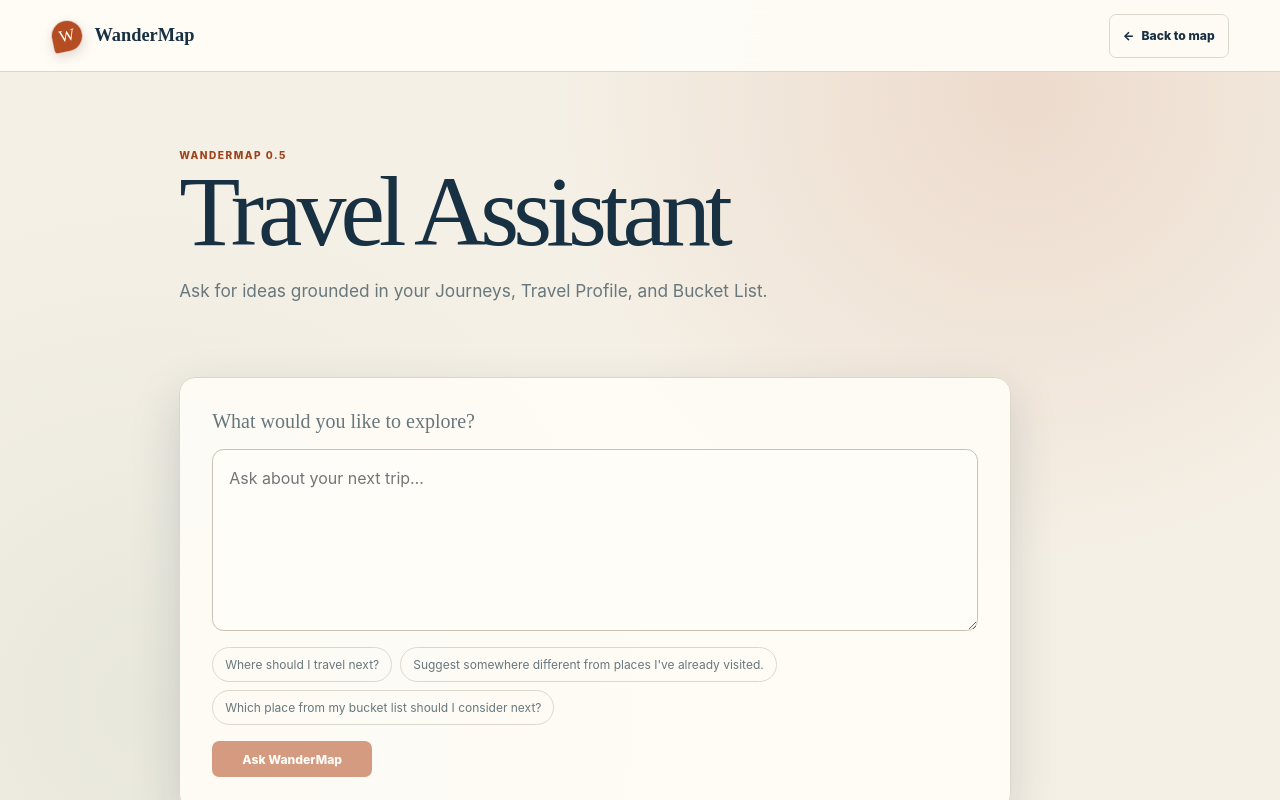
Test: TravelAssistantView › renders model output as plain text without interpreting unsafe HTML
In the text box labelled "What would you like to explore?": point(595, 540) [212,449,978,632], type "Unsafe answer"
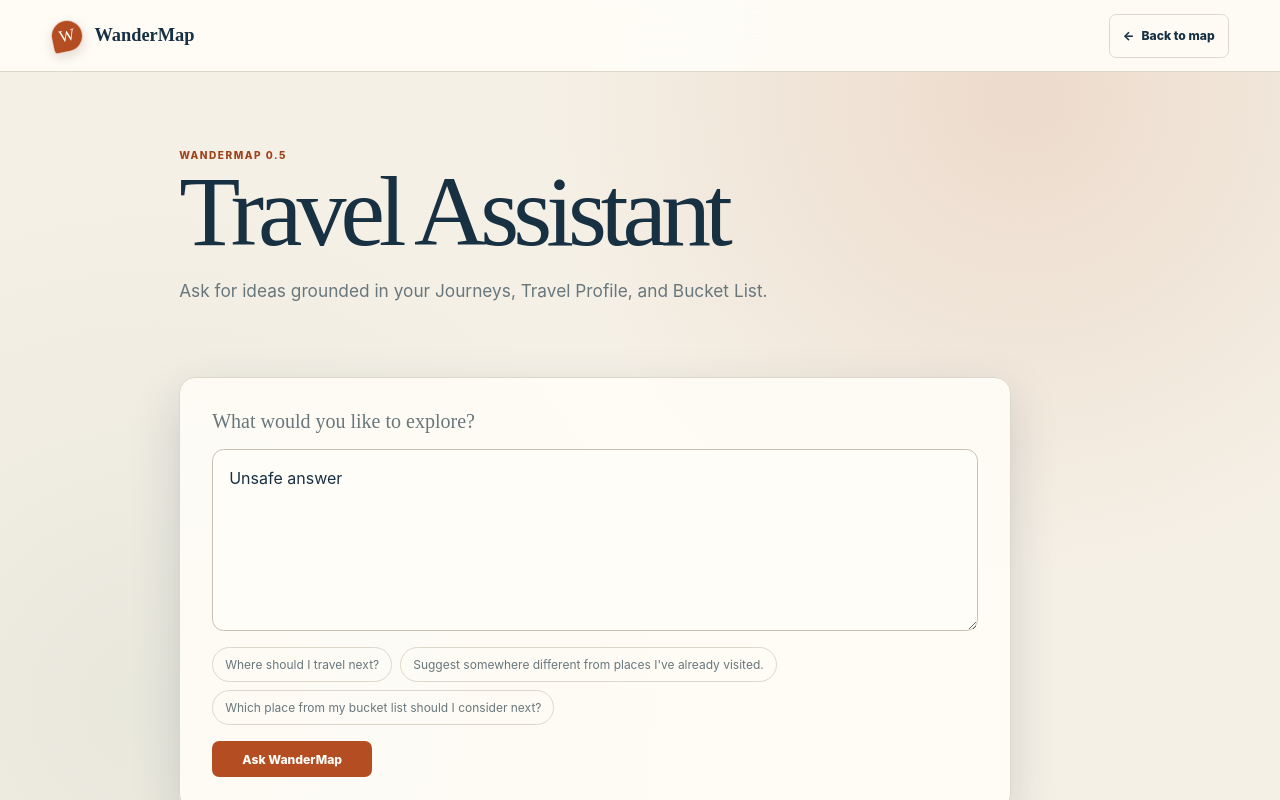
Click the button "Ask WanderMap": point(292, 759) [212,741,372,778]
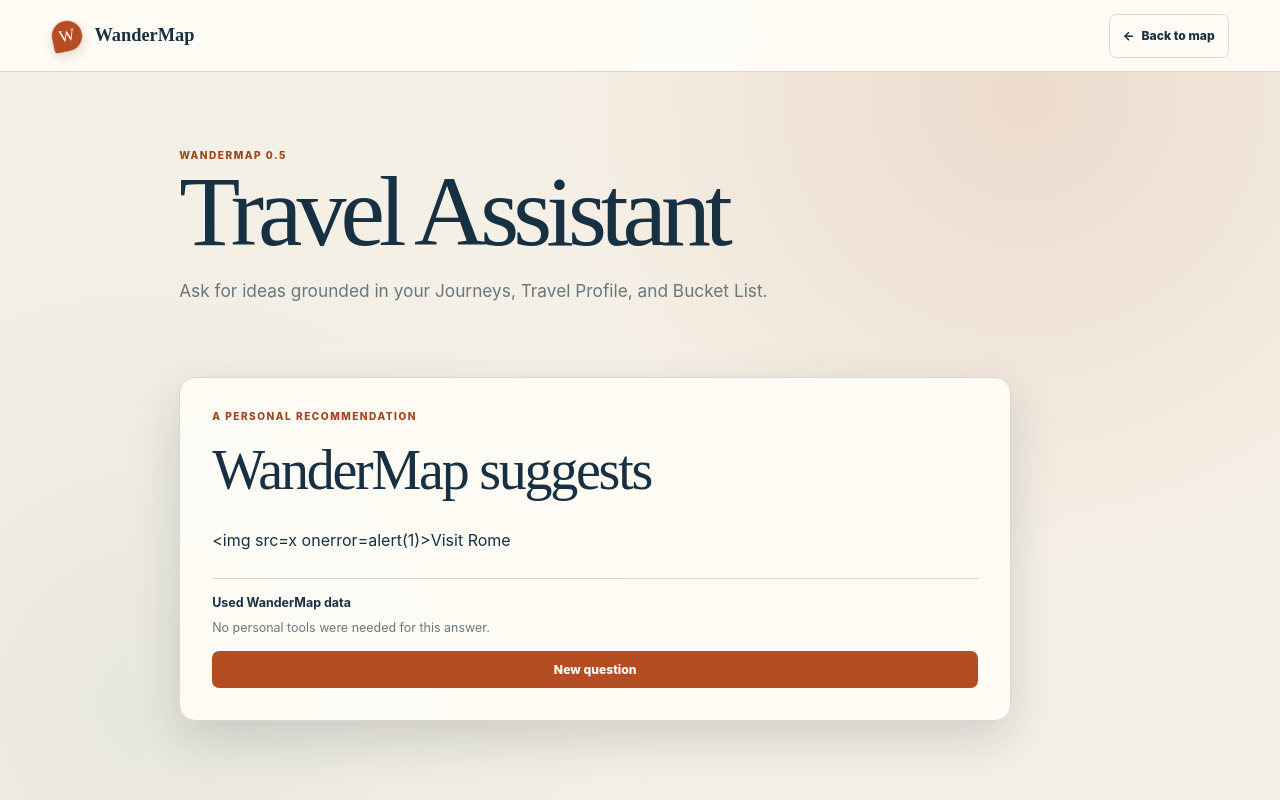
Result: the text "<img src=x onerror=alert(1)>Visit Rome" is shown at [212,530,511,550]
